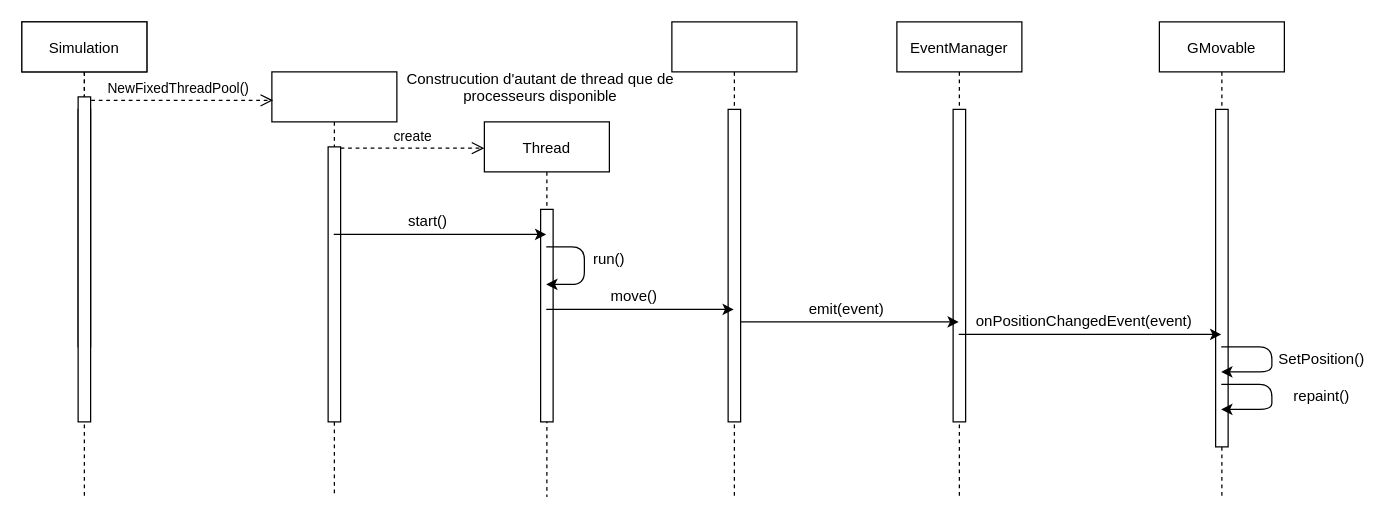
Image size: 1386x519. Some labels were removed from this diagram. The shapes that lost their labels are listed below. From the top down, each one's box as (x1, y1, x2, y2) in pixels, then its label:
(671, 21, 797, 497): Movable
(271, 71, 397, 497): ExecutorService
